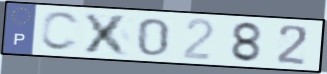0: (135, 16, 173, 57)
2: (180, 17, 218, 62), (274, 23, 310, 67)
8: (229, 21, 265, 64)
C: (38, 10, 83, 53)
X: (81, 11, 133, 58)
